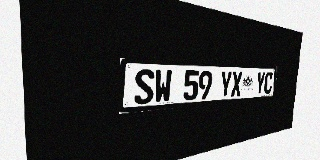5: (183, 70, 199, 101)
9: (198, 70, 213, 100)
C: (264, 72, 273, 94)
S: (134, 69, 154, 105)
W: (154, 69, 172, 103)
X: (231, 71, 243, 97)
Y: (219, 71, 232, 98), (255, 72, 265, 95)
